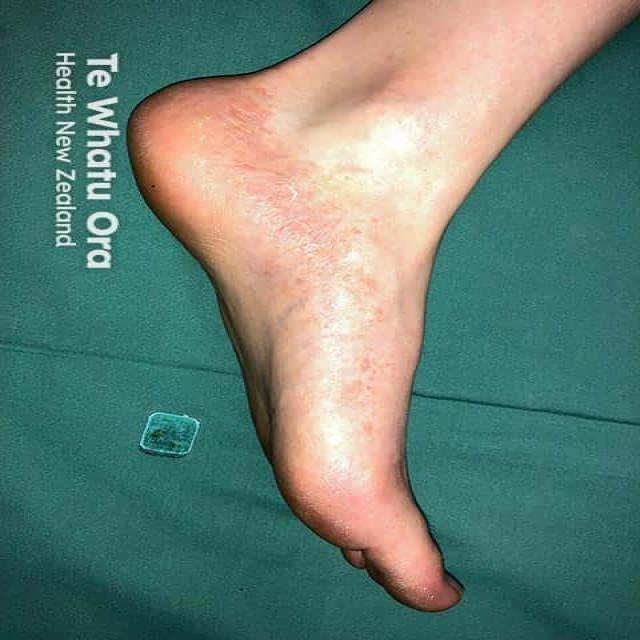Eczema: (187, 79, 401, 503)
